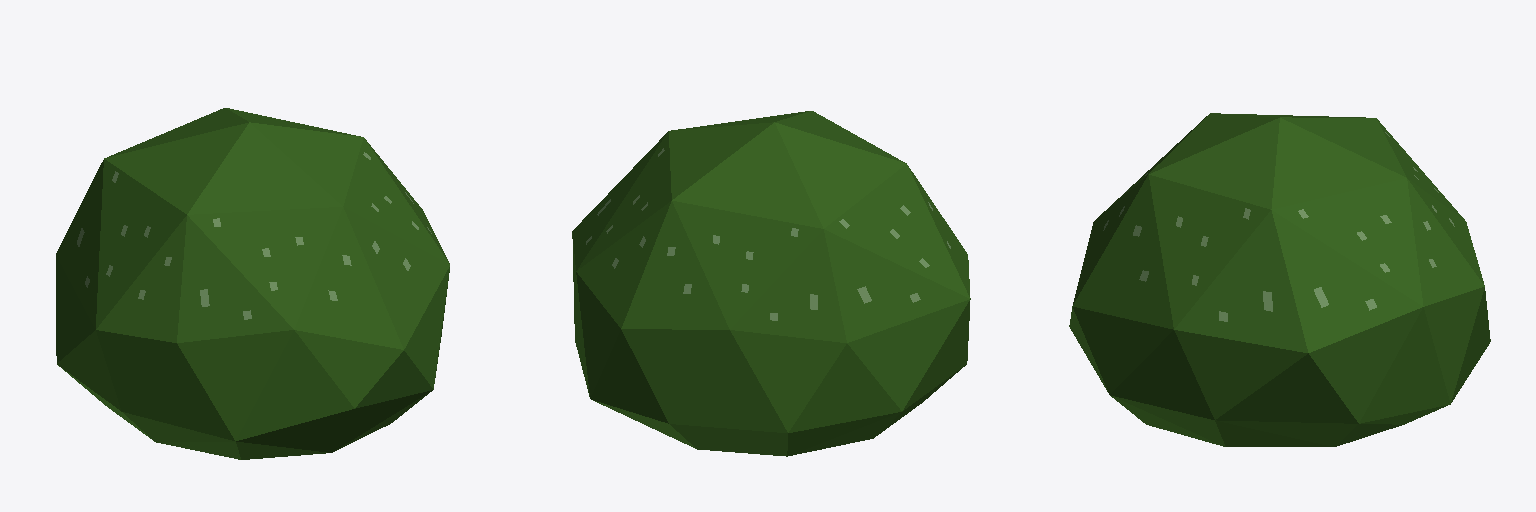
3 views of the same model, side by side, from view 1: azimuth 30°, elevation 25°; view 2: azimuth 150°, elevation 25°; view 3: azimuth 270°, elevation 25° (orthographic).
Visible parts, largest first — view 1: Bush_Icosphere; view 2: Bush_Icosphere; view 3: Bush_Icosphere.
Part boxes in pixels (x1,y1,x2,y2): Bush_Icosphere: (56,108,449,459); Bush_Icosphere: (572,111,970,456); Bush_Icosphere: (1069,113,1490,446).
Bounding box in the file's own units: 3.12 × 2.22 × 3.14.
1 materials, 1 textured.